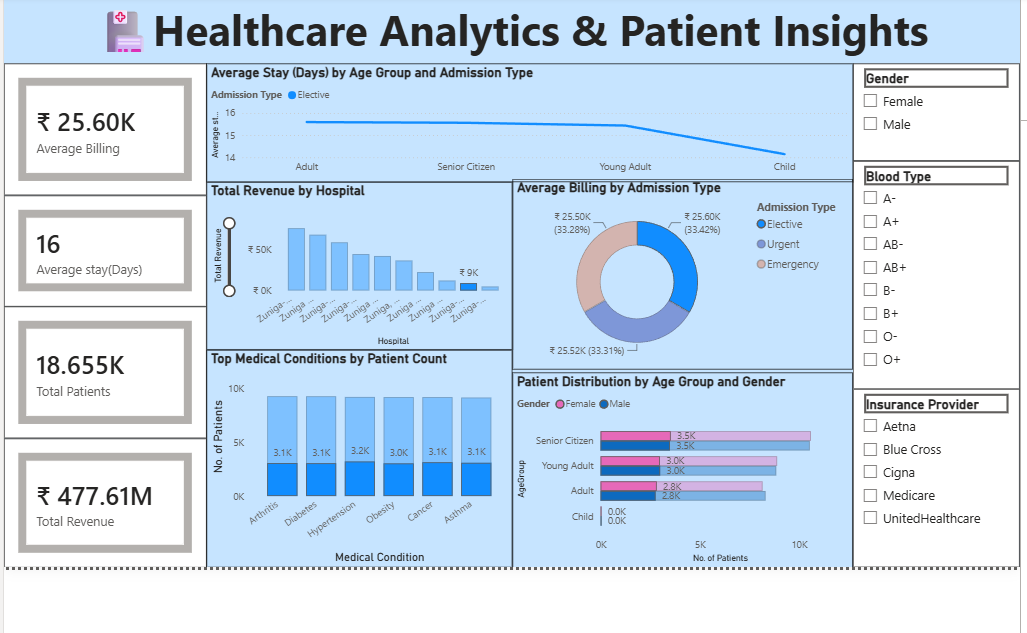

The page's visual inventory and layout, read from the dashboard file:
{"tool":"powerbi","page":{"name":"Page 1","canvas":[1280,720],"ordinal":0},"visuals":[{"type":"cardVisual","fields":{"Data":["healthcare_dataset.Avg Billing"]},"box":[0,85,255.1,166.3],"z":0},{"type":"cardVisual","fields":{"Data":["healthcare_dataset.Avg stay"]},"box":[0,251.3,255.1,139.8],"z":1000},{"type":"cardVisual","title":"PA","fields":{"Data":["healthcare_dataset.Total Patients"]},"box":[0,391.2,255.1,166.3],"z":2000},{"type":"cardVisual","fields":{"Data":["healthcare_dataset.Total revenue"]},"box":[0,557.5,255.1,162.5],"z":3000},{"type":"slicer","fields":{"Values":["healthcare_dataset.Blood Type"]},"box":[1069.6,207.9,209.8,287.2],"z":4000},{"type":"slicer","fields":{"Values":["healthcare_dataset.Insurance Provider"]},"box":[1069.6,495.1,209.8,224.9],"z":5000},{"type":"slicer","fields":{"Values":["healthcare_dataset.Gender"]},"box":[1069.6,85,209.8,122.8],"z":6000},{"type":"textbox","box":[0,0,1279.4,85],"z":7000},{"type":"clusteredColumnChart","fields":{"Y":["healthcare_dataset.Total revenue"],"Category":["healthcare_dataset.Hospital"]},"box":[255.1,234.3,385.5,211.7],"z":8000},{"type":"clusteredBarChart","title":"Patient Distribution by Age Group and Gender","fields":{"Category":["healthcare_dataset.AgeGroup"],"Y":["CountNonNull(healthcare_dataset.First name)"],"Series":["healthcare_dataset.Gender"]},"box":[640.6,474.3,429,245.7],"z":9000},{"type":"columnChart","title":"Top Medical Conditions by Patient Count","fields":{"Category":["healthcare_dataset.Medical Condition"],"Y":["CountNonNull(healthcare_dataset.Name)"]},"box":[255.1,446,385.5,274],"z":10000},{"type":"donutChart","fields":{"Category":["healthcare_dataset.Admission Type"],"Y":["healthcare_dataset.Avg Billing"]},"box":[640.6,230.6,429,240],"z":11000},{"type":"lineChart","title":"Average Stay (Days) by Age Group and Admission Type","fields":{"Y":["healthcare_dataset.Avg stay"],"Category":["healthcare_dataset.AgeGroup"],"Series":["healthcare_dataset.Admission Type"]},"box":[255.1,85,814.5,149.3],"z":12000}]}

Visuals, with their boxes in screenshot pixels (x1, y1, x2, y2):
cardVisual - healthcare_dataset.Avg Billing: [3, 65, 205, 196]
cardVisual - healthcare_dataset.Avg stay: [3, 196, 205, 307]
"PA" cardVisual: [3, 307, 205, 438]
cardVisual - healthcare_dataset.Total revenue: [3, 438, 205, 567]
slicer - healthcare_dataset.Blood Type: [849, 162, 1015, 389]
slicer - healthcare_dataset.Insurance Provider: [849, 389, 1015, 567]
slicer - healthcare_dataset.Gender: [849, 65, 1015, 162]
textbox: [3, 0, 1015, 65]
clusteredColumnChart - healthcare_dataset.Total revenue x healthcare_dataset.Hospital: [205, 183, 510, 350]
"Patient Distribution by Age Group and Gender" clusteredBarChart: [510, 373, 849, 567]
"Top Medical Conditions by Patient Count" columnChart: [205, 350, 510, 567]
donutChart - healthcare_dataset.Admission Type x healthcare_dataset.Avg Billing: [510, 180, 849, 370]
"Average Stay (Days) by Age Group and Admission Type" lineChart: [205, 65, 849, 183]
